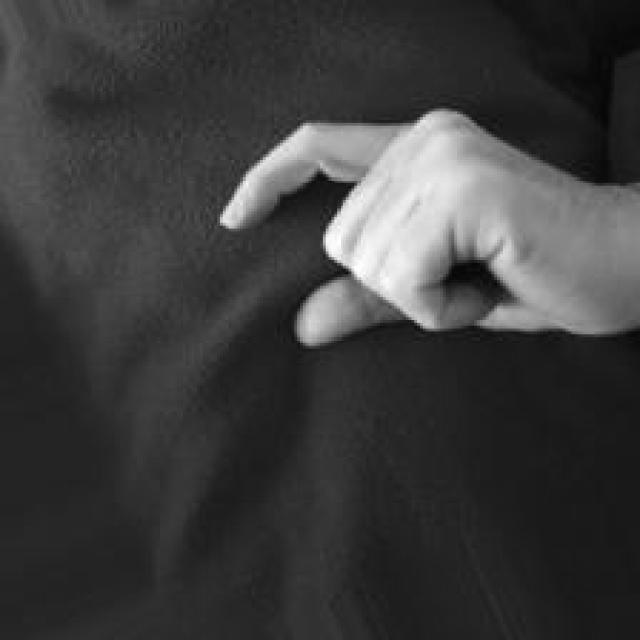C: (215, 101, 640, 356)
